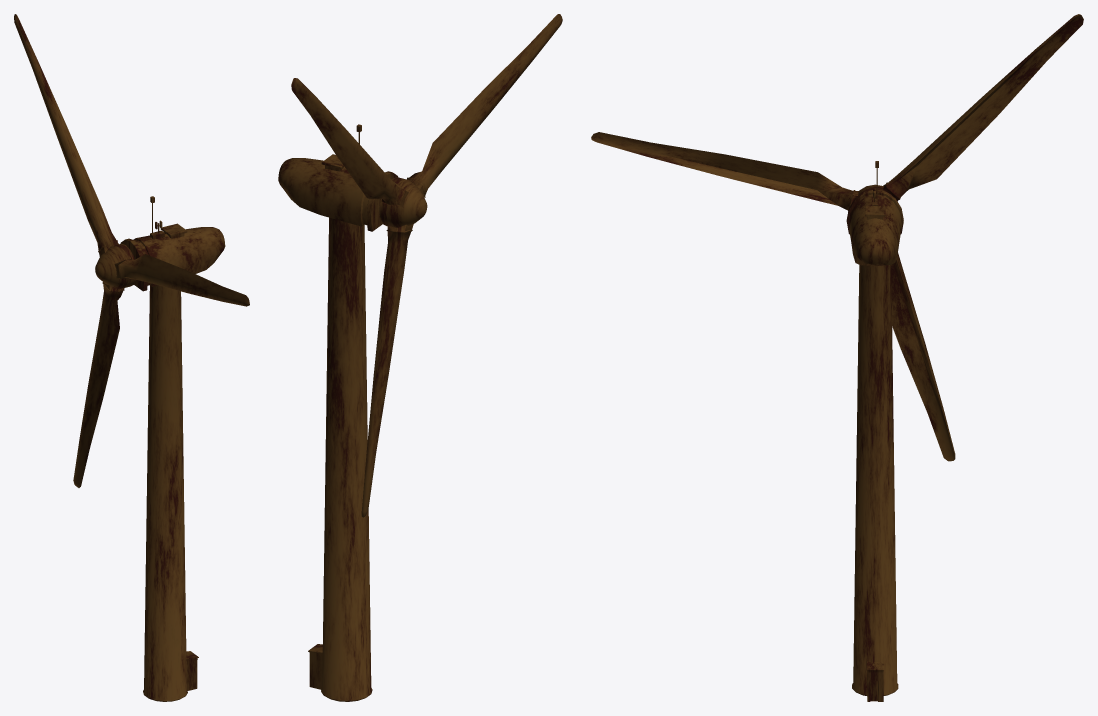
The model's file is Turbina_Eolica_Estatica.fbx.
3 views of the same model, side by side, from view 1: azimuth 30°, elevation 25°; view 2: azimuth 150°, elevation 25°; view 3: azimuth 270°, elevation 25° (orthographic). The views are drawn at different scales.
Visible parts, largest first — view 1: Wind_turbine_001.001, Wind_turbine_001_Blades.001; view 2: Wind_turbine_001.001, Wind_turbine_001_Blades.001; view 3: Wind_turbine_001.001, Wind_turbine_001_Blades.001.
Part boxes in pixels (bbox=[...]): Wind_turbine_001.001: bbox=[120, 196, 225, 701]; Wind_turbine_001_Blades.001: bbox=[14, 14, 249, 487]; Wind_turbine_001.001: bbox=[278, 124, 397, 701]; Wind_turbine_001_Blades.001: bbox=[291, 14, 562, 517]; Wind_turbine_001.001: bbox=[846, 161, 903, 701]; Wind_turbine_001_Blades.001: bbox=[591, 14, 1083, 461].
Size of the model in its own units: 6.67 by 31.09 by 21.46.
Materials: 2 (2 with a texture image).
